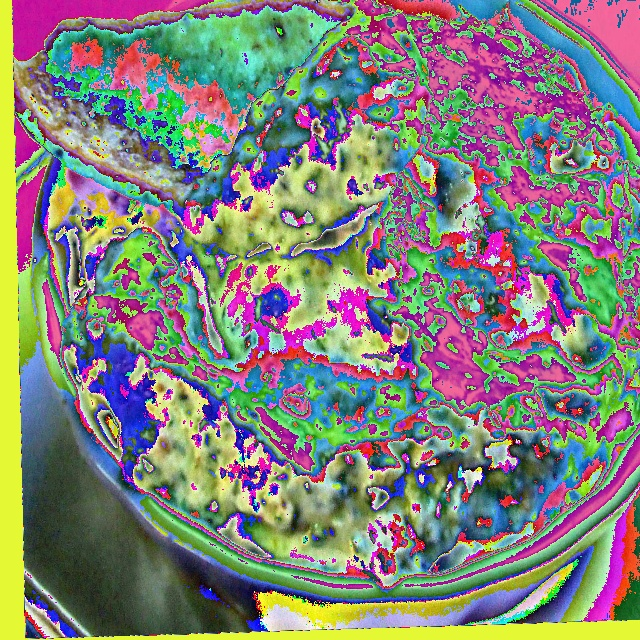background: (14, 0, 639, 587)
